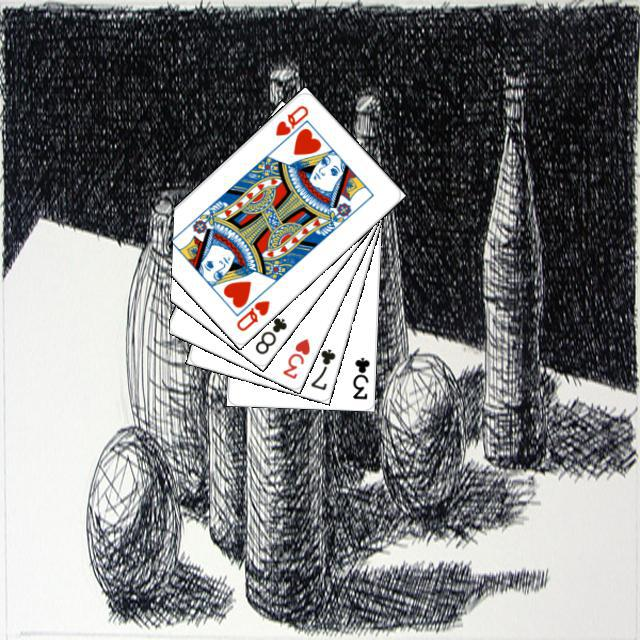3c: (348, 352, 371, 401)
3h: (277, 333, 312, 381)
7c: (306, 344, 337, 392)
8c: (250, 312, 289, 356)
Qh: (270, 100, 310, 148), (231, 295, 271, 333)
